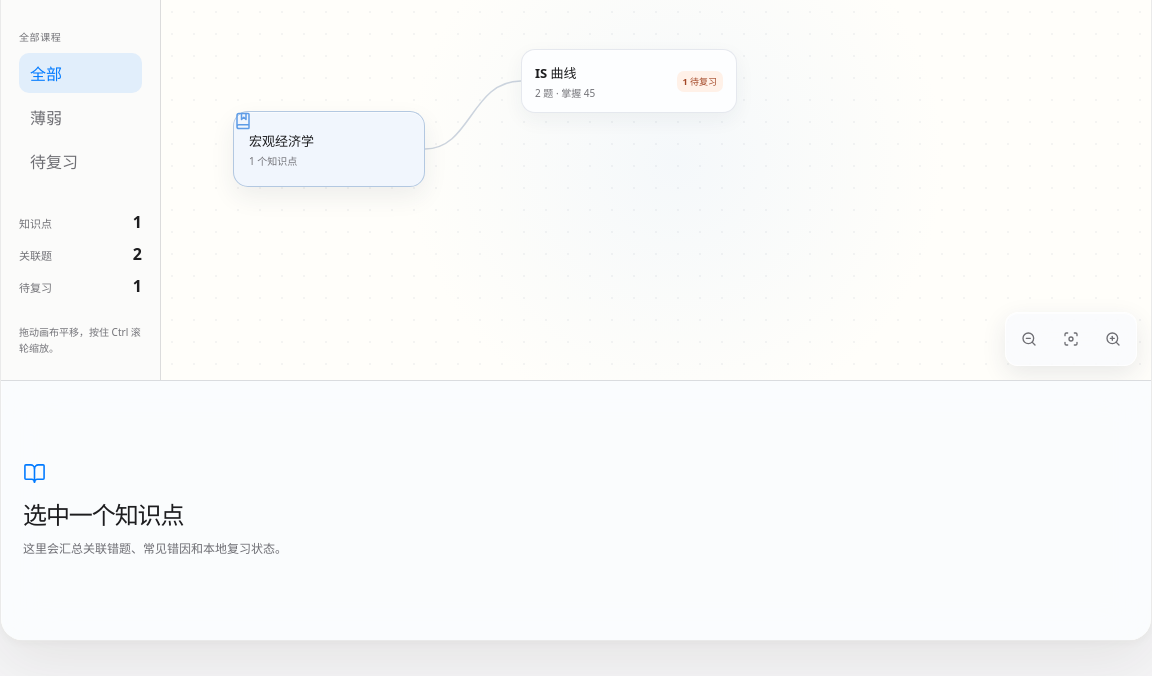
loads a course graph, filters weak topics, and opens a related problem
Later steps or results of the test are not shown.
Click the button "IS 曲线 2 题 · 掌握 45 1 待复习": click(629, 81) [521,49,737,113]
(page scrolled)
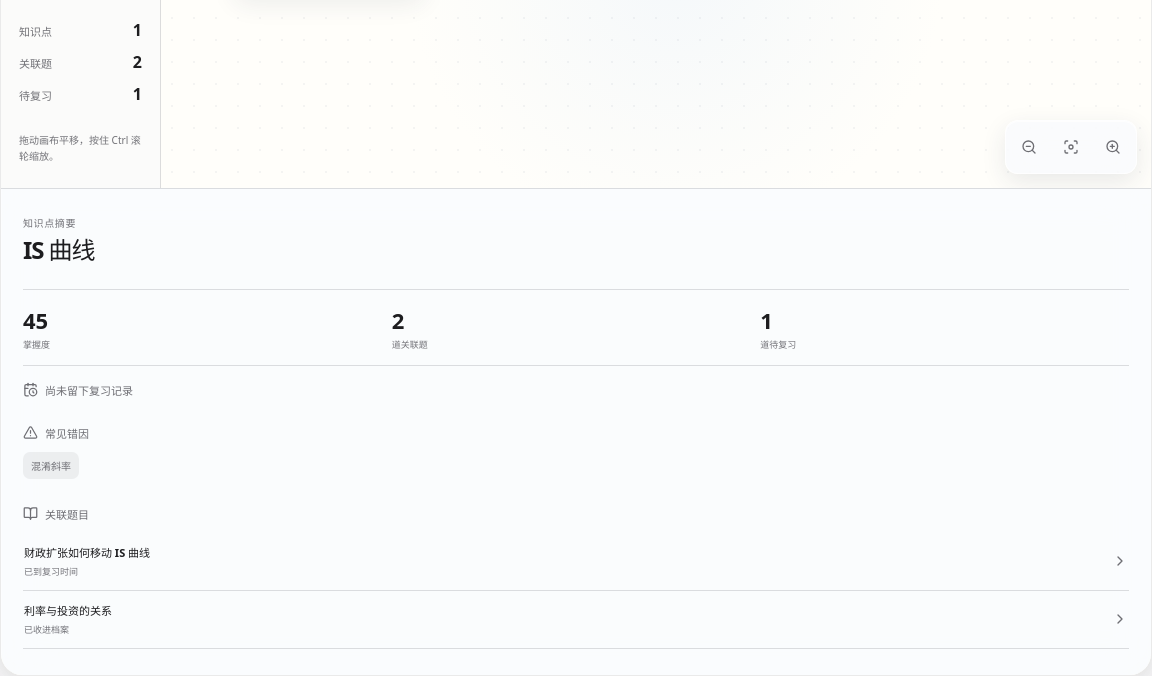
Expected: the element "知识点摘要" shows "混淆斜率", [31,459,71,473]
